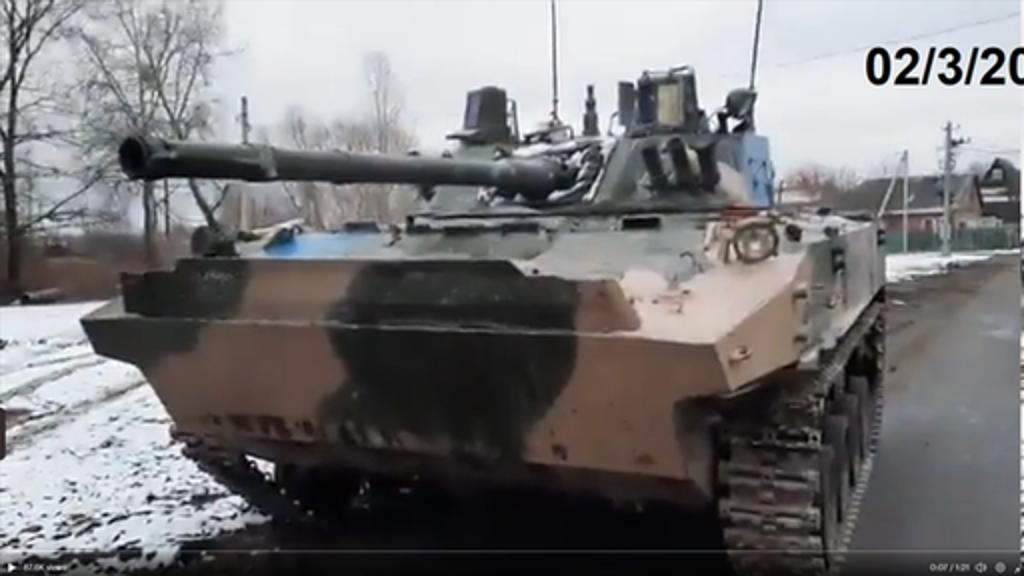APC-IFV: (68, 70, 892, 570)
